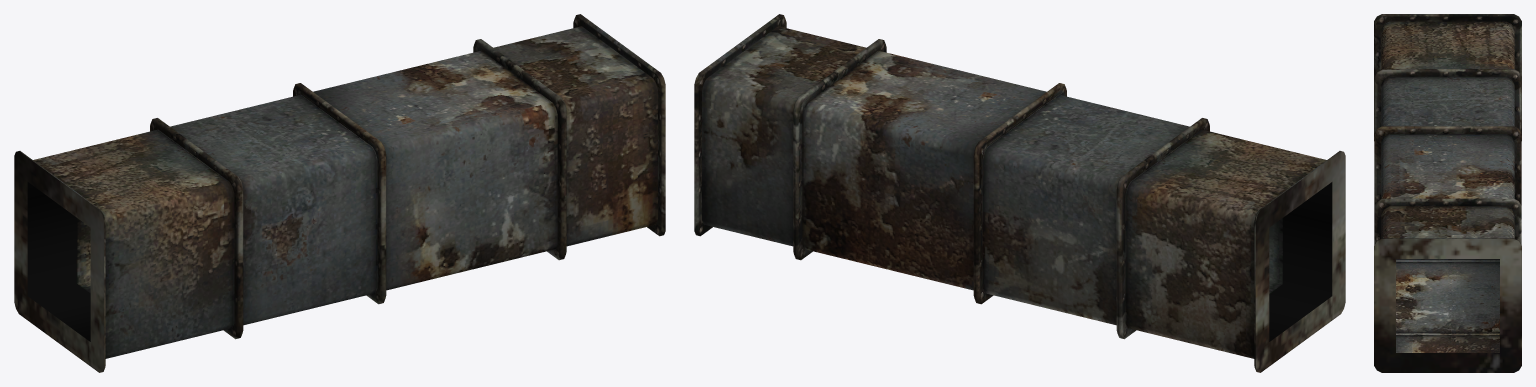
Rendered from Squareduct Straight.obj.
3 views of the same model, side by side, from view 1: azimuth 30°, elevation 25°; view 2: azimuth 150°, elevation 25°; view 3: azimuth 270°, elevation 25° (orthographic). The views are drawn at different scales.
Visible parts, largest first — view 1: ABY_Squareduct_straight; view 2: ABY_Squareduct_straight; view 3: ABY_Squareduct_straight.
Part boxes in pixels (bbox=[...]): ABY_Squareduct_straight: bbox=[14, 14, 665, 372]; ABY_Squareduct_straight: bbox=[694, 14, 1345, 372]; ABY_Squareduct_straight: bbox=[1374, 14, 1521, 372].
Bounding box in the file's own units: 512 × 142 × 142.
1 material, 1 textured.
